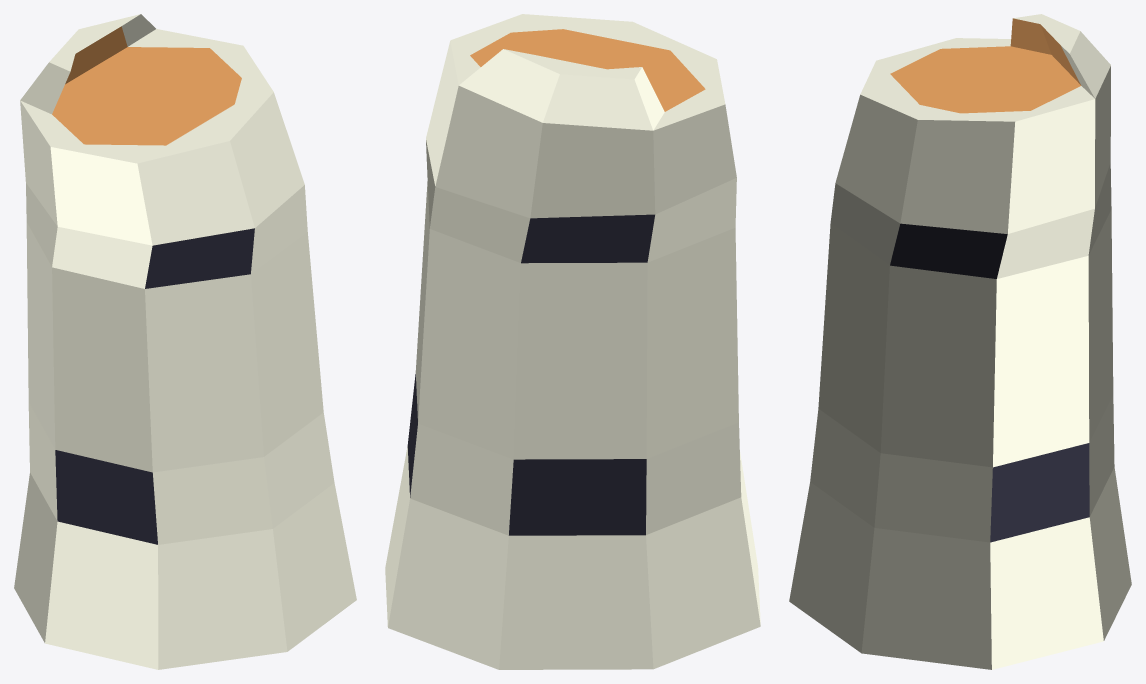
The model's file is Stump1_summer.FBX.
3 views of the same model, side by side, from view 1: azimuth 30°, elevation 25°; view 2: azimuth 150°, elevation 25°; view 3: azimuth 270°, elevation 25° (orthographic). The views are drawn at different scales.
Parts seen in each view (by area): view 1: Berezka pen.002; view 2: Berezka pen.002; view 3: Berezka pen.002.
Boxes of the visible parts, left/top/right/bottom form: Berezka pen.002: left=14, top=14, right=356, bottom=669; Berezka pen.002: left=385, top=14, right=760, bottom=669; Berezka pen.002: left=789, top=14, right=1131, bottom=669.
Bounding box in the file's own units: 0.3335 × 0.5497 × 0.3139.
